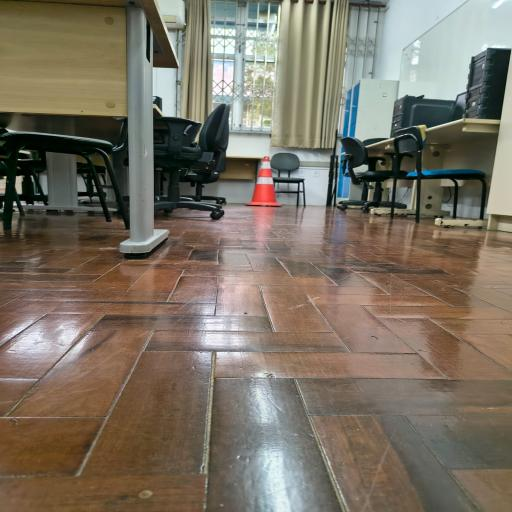cone: (245, 152, 283, 208)
